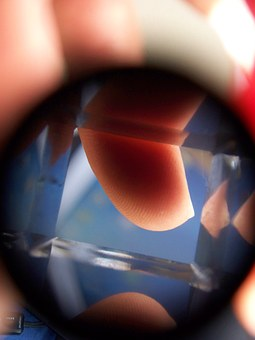fist: (91, 133, 197, 227)
